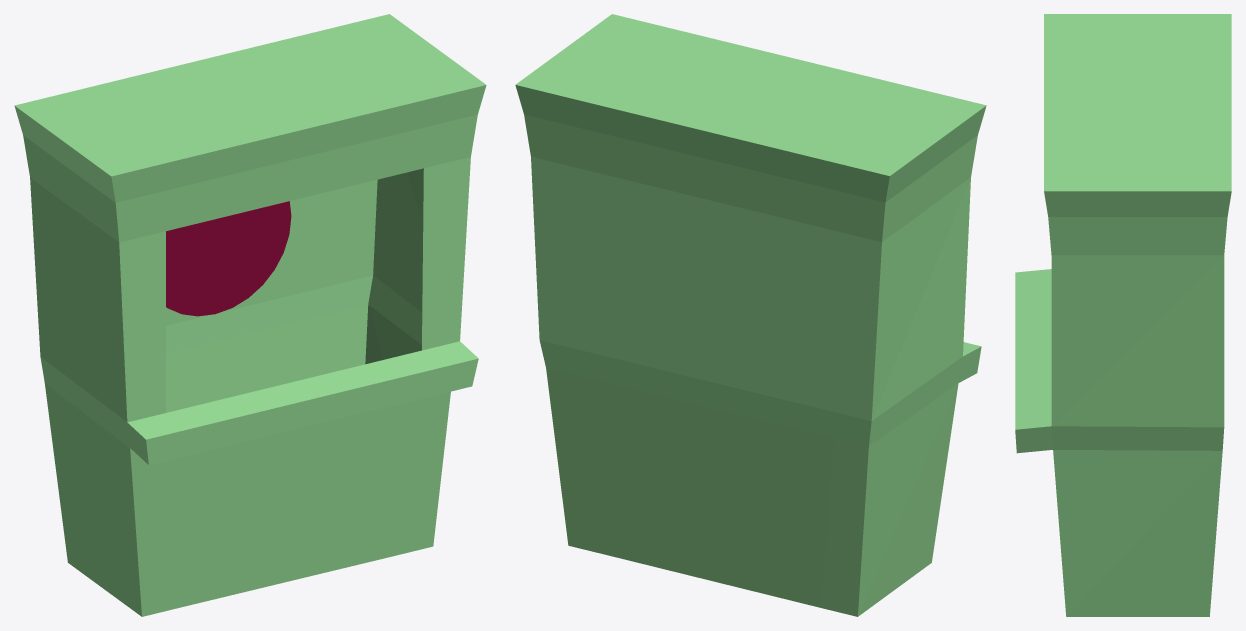
The model's file is tiro_con_arco.fbx.
3 renders of one model, left to right at view 1: azimuth 30°, elevation 25°; view 2: azimuth 150°, elevation 25°; view 3: azimuth 270°, elevation 25°, orthographic. The views are drawn at different scales.
Parts seen in each view (by area): view 1: puesto_tiroca; view 2: puesto_tiroca; view 3: puesto_tiroca.
Part boxes in pixels (<box>): puesto_tiroca: <box>14,14,486,616</box>; puesto_tiroca: <box>515,14,986,616</box>; puesto_tiroca: <box>1015,14,1231,616</box>.
Size of the model in its own units: 79.56 by 93.16 by 41.06.
